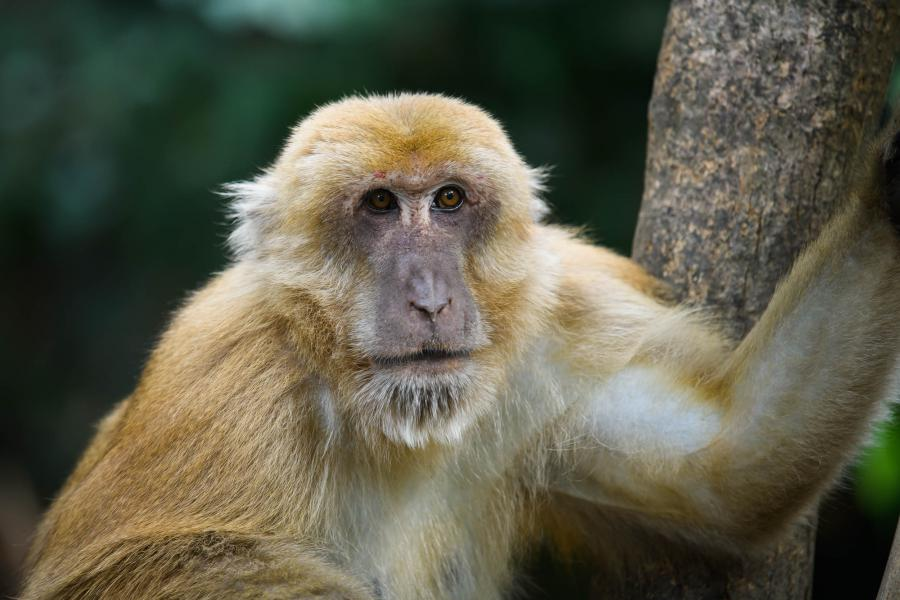monkey: (19, 70, 900, 600)
